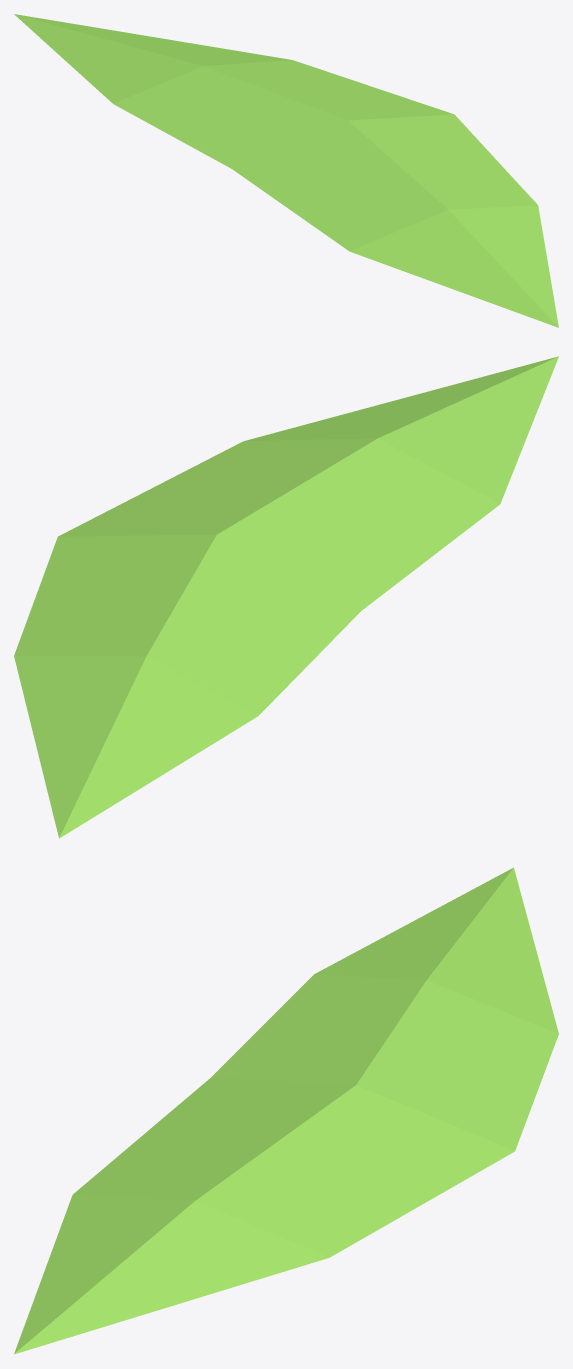
File: Palm_Leave_TwoSided_03.fbx
3 renders of one model, top to bottom at view 1: azimuth 30°, elevation 25°; view 2: azimuth 150°, elevation 25°; view 3: azimuth 330°, elevation 25°, orthographic. The views are drawn at different scales.
Visible parts, largest first — view 1: Palm_Leave_TwoSided_03; view 2: Palm_Leave_TwoSided_03; view 3: Palm_Leave_TwoSided_03.
Part boxes in pixels (x1,y1,x2,y2): Palm_Leave_TwoSided_03: (14, 14, 558, 327); Palm_Leave_TwoSided_03: (14, 356, 558, 838); Palm_Leave_TwoSided_03: (14, 867, 558, 1354).
Size of the model in its own units: 88.19 by 11.56 by 285.
